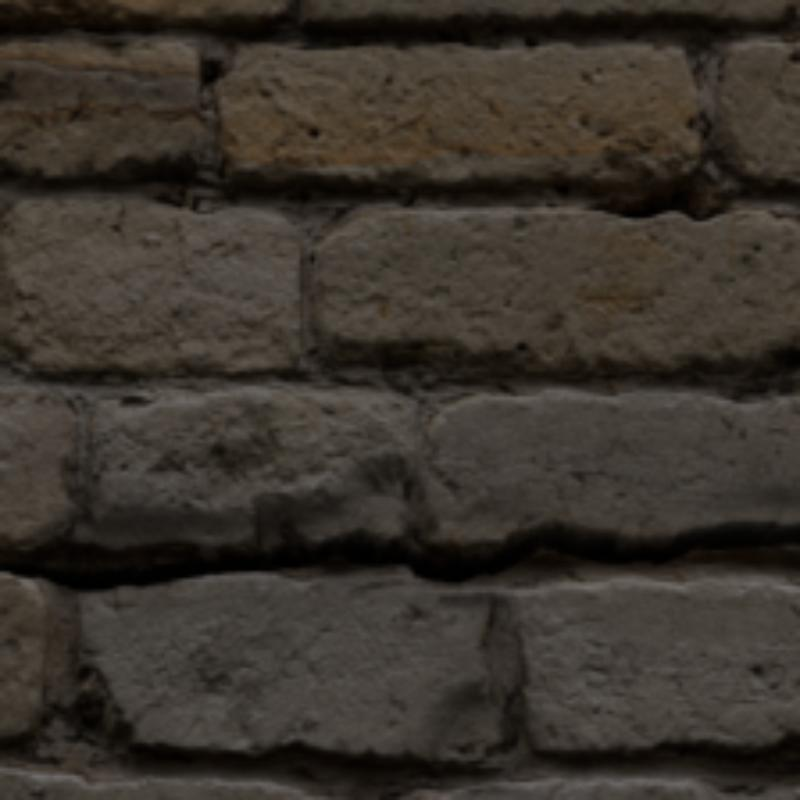crack: (0, 521, 796, 589)
